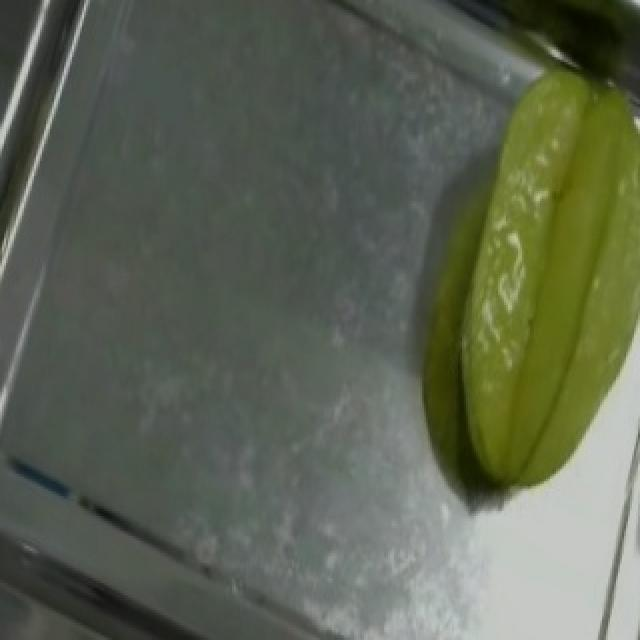fruit: (450, 40, 640, 454)
